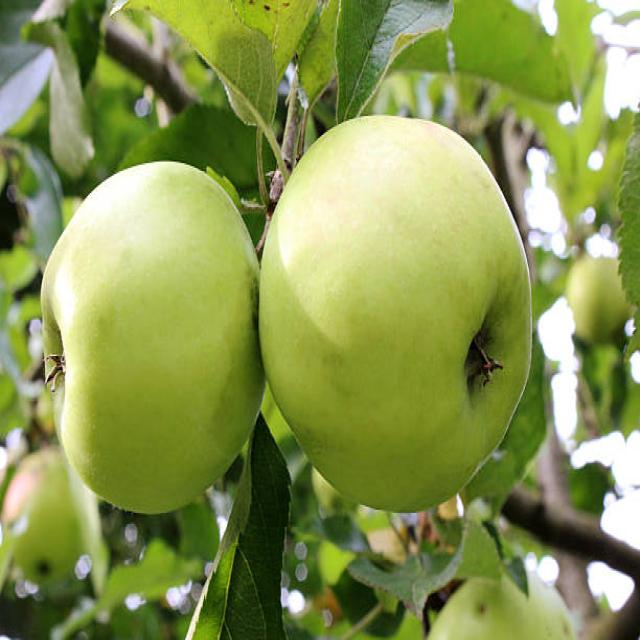Unripe: (258, 114, 534, 515), (41, 160, 263, 519)
